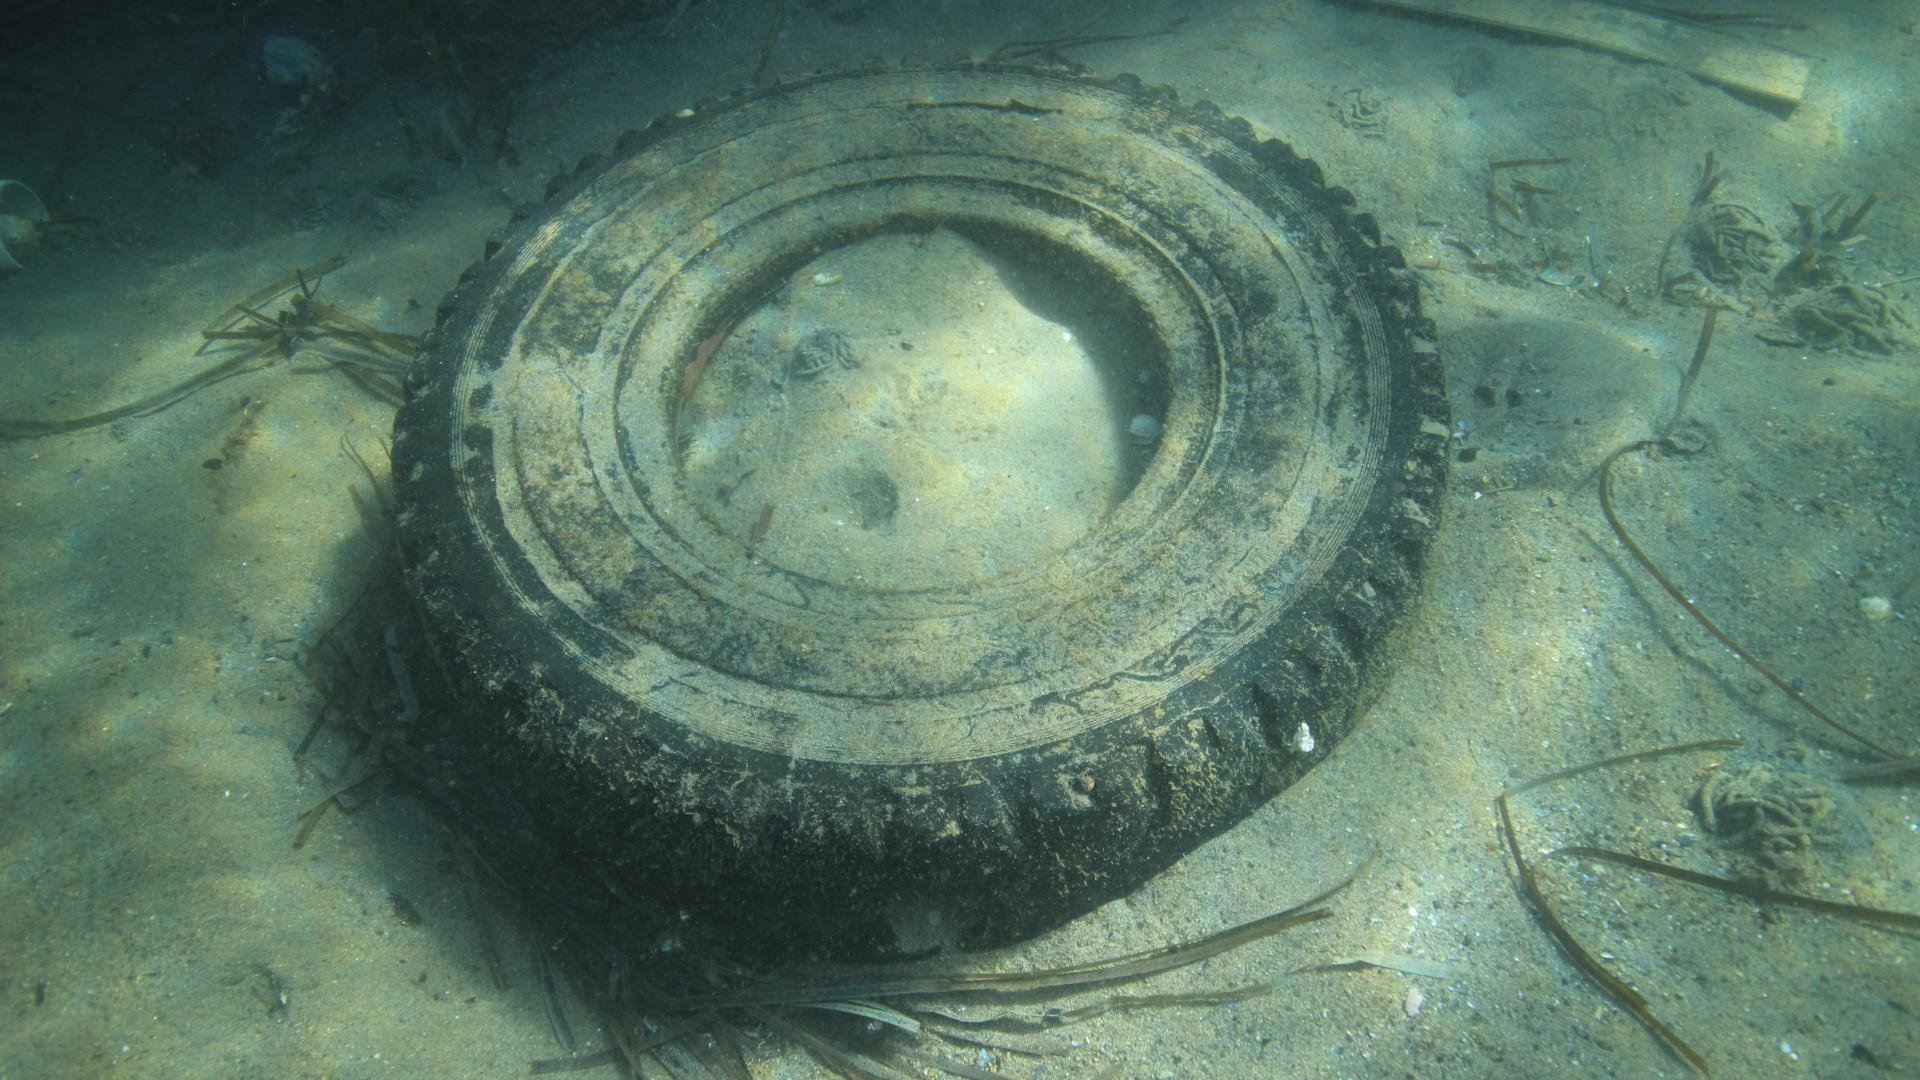tire: (386, 47, 1448, 963)
